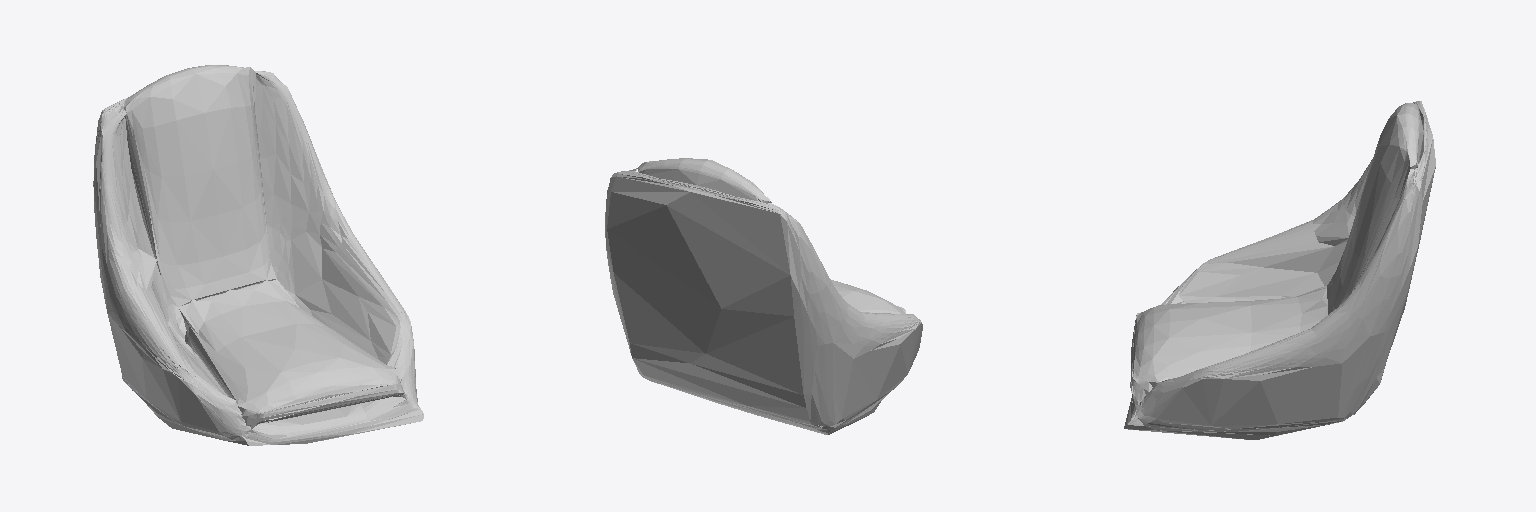
The model's file is chair6.obj.
The picture shows the model from 3 angles: view 1: azimuth 30°, elevation 25°; view 2: azimuth 150°, elevation 25°; view 3: azimuth 270°, elevation 25°; orthographic projection.
Parts seen in each view (by area): view 1: Armchair6:Mesh; view 2: Armchair6:Mesh; view 3: Armchair6:Mesh.
Part boxes in pixels (x1,y1,x2,y2): Armchair6:Mesh: (93,65,423,445); Armchair6:Mesh: (605,158,922,434); Armchair6:Mesh: (1124,101,1435,439).
Bounding box in the file's own units: 0.4251 × 0.4662 × 0.4671.